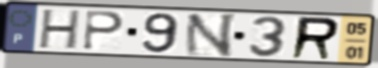3: (246, 15, 290, 59)
9: (140, 11, 182, 55)
H: (36, 9, 84, 52)
N: (182, 12, 239, 58)
P: (80, 9, 127, 52)
R: (288, 15, 343, 62)
